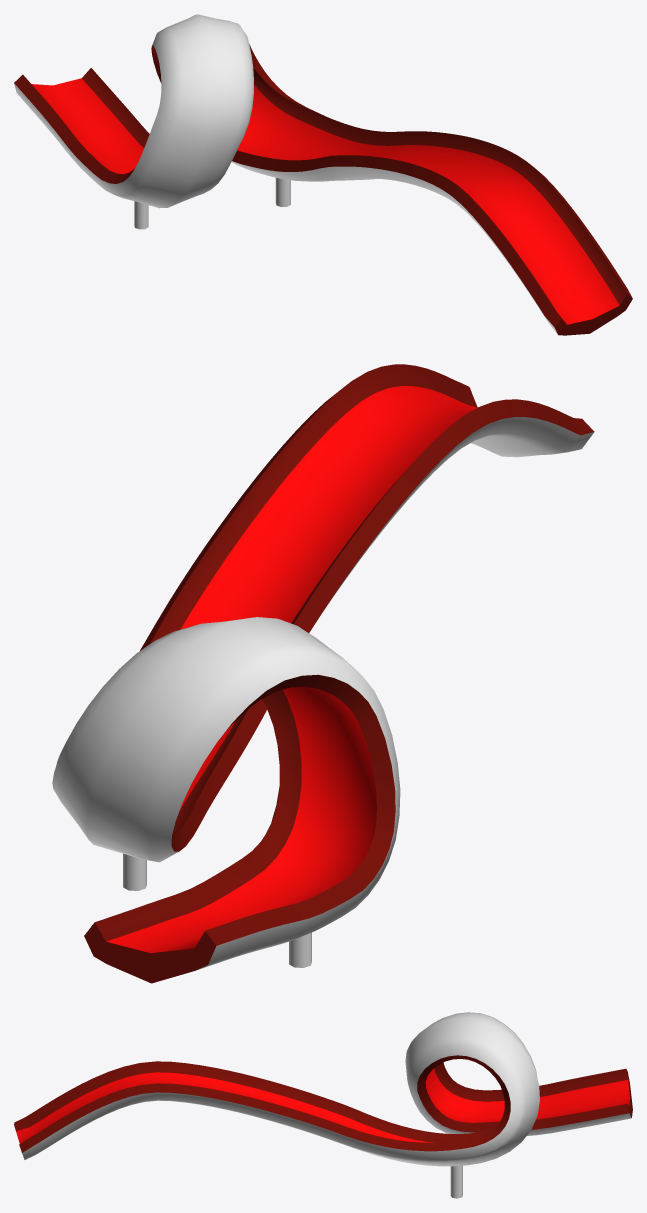
Rendered from loopsmaller.glb.
The picture shows the model from 3 angles, top to bottom: view 1: azimuth 30°, elevation 25°; view 2: azimuth 150°, elevation 25°; view 3: azimuth 270°, elevation 25°; orthographic projection. The views are drawn at different scales.
Visible parts, largest first — view 1: LoopDeLoop-col; view 2: LoopDeLoop-col; view 3: LoopDeLoop-col.
Boxes of the visible parts, bbox=[...] form: LoopDeLoop-col: bbox=[14, 14, 632, 335]; LoopDeLoop-col: bbox=[52, 364, 594, 983]; LoopDeLoop-col: bbox=[14, 1012, 632, 1198].
Size of the model in its own units: 20.12 by 16.04 by 58.13.
